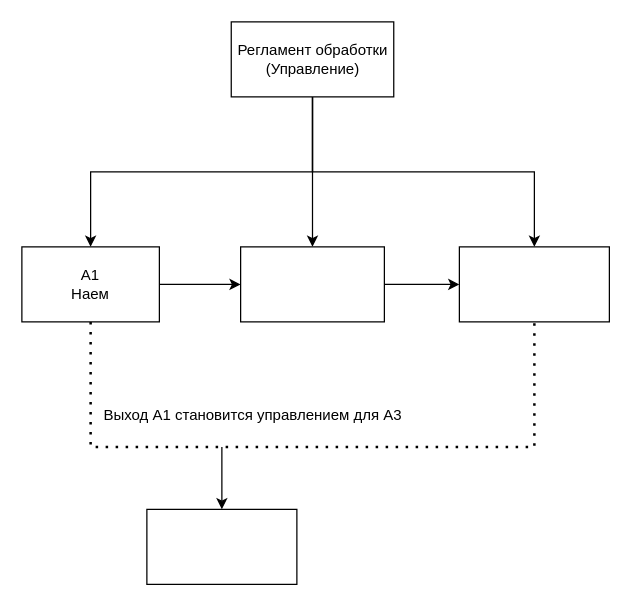
The diagram is 631 pixels wide and 606 high, and some of its shapes have lost their labels. Each missing label, with the centre of its shape:
А2 Адаптация: (311,284)
А3 Оценка: (533,284)
